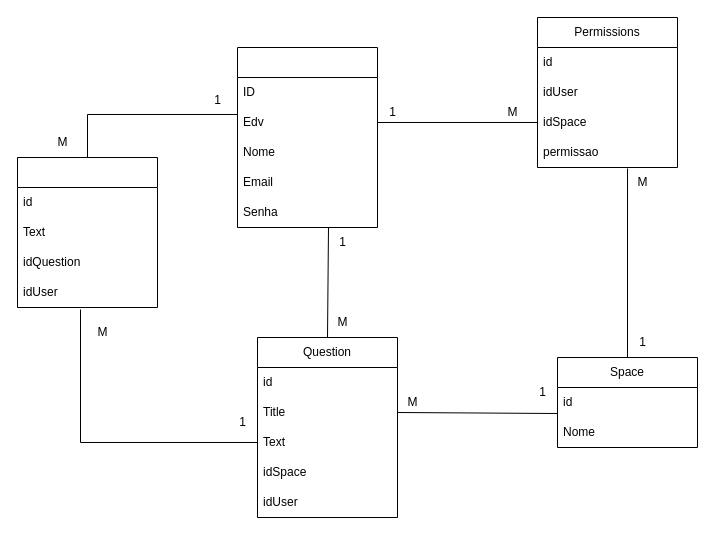
This 715x535 diagram has some shape labels left out. The shapes that lost their labels are listed below. From the top down, each one's box as (x1, y1, x2, y2) in pixels, then its label:
(236, 46, 378, 228): User
(16, 156, 158, 308): Answer
